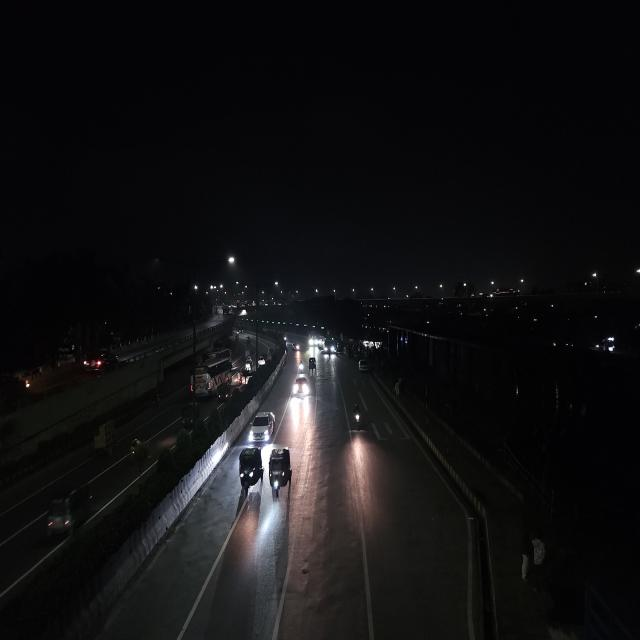bus: (190, 352, 233, 403), (322, 336, 336, 355), (309, 332, 319, 348)
car: (247, 408, 277, 446), (82, 349, 119, 374), (292, 372, 310, 398), (306, 356, 318, 375), (256, 351, 268, 369), (358, 359, 368, 374)
cng: (44, 480, 96, 538), (266, 444, 296, 501), (235, 444, 265, 500), (180, 400, 199, 428)
motorcycle: (126, 434, 149, 465), (350, 402, 364, 435)
